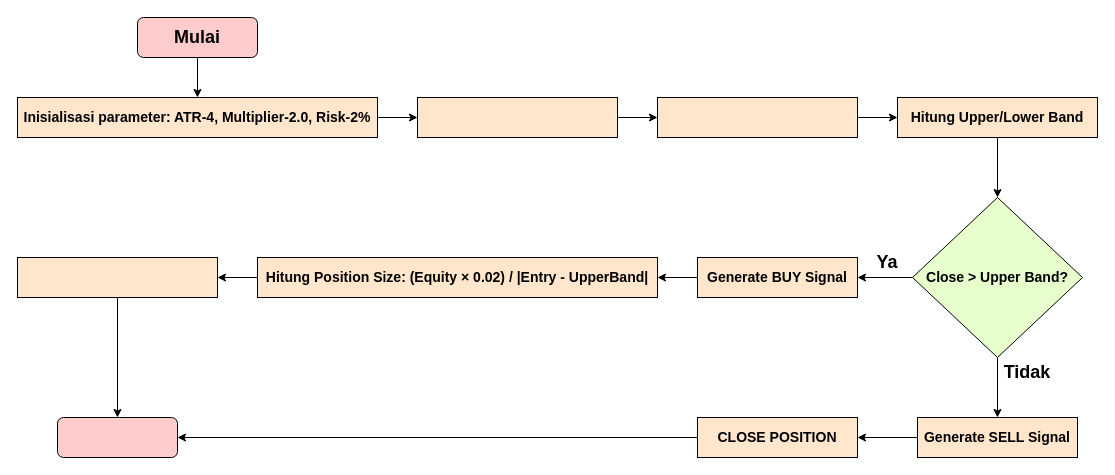
Some shapes in this 1115 by 475 pixel diagram are drawn without their labels. Here are the shapes that lost their labels. From the top down, the box of each, then its label:
(416, 96, 618, 138): Ambil data: High, Low, Close
(656, 96, 858, 138): Hitung ATR (4 periode)
(16, 256, 218, 298): Eksekusi LONG ENTRY
(56, 416, 178, 458): Selesai
